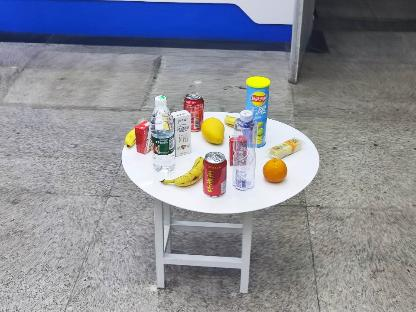Can: (202, 148, 226, 200), (187, 92, 203, 132)
Others: (244, 78, 270, 152)
Plastic Bottle: (152, 96, 176, 178), (232, 112, 256, 192)
